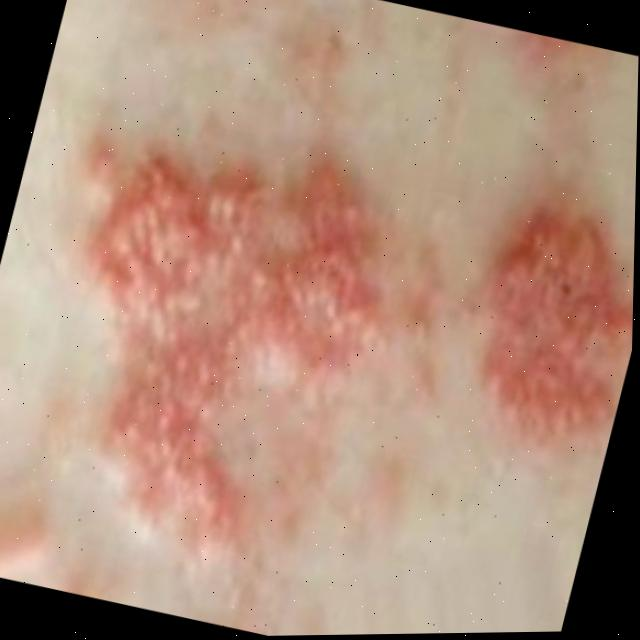Shingles: (0, 119, 421, 584), (451, 194, 635, 463)
